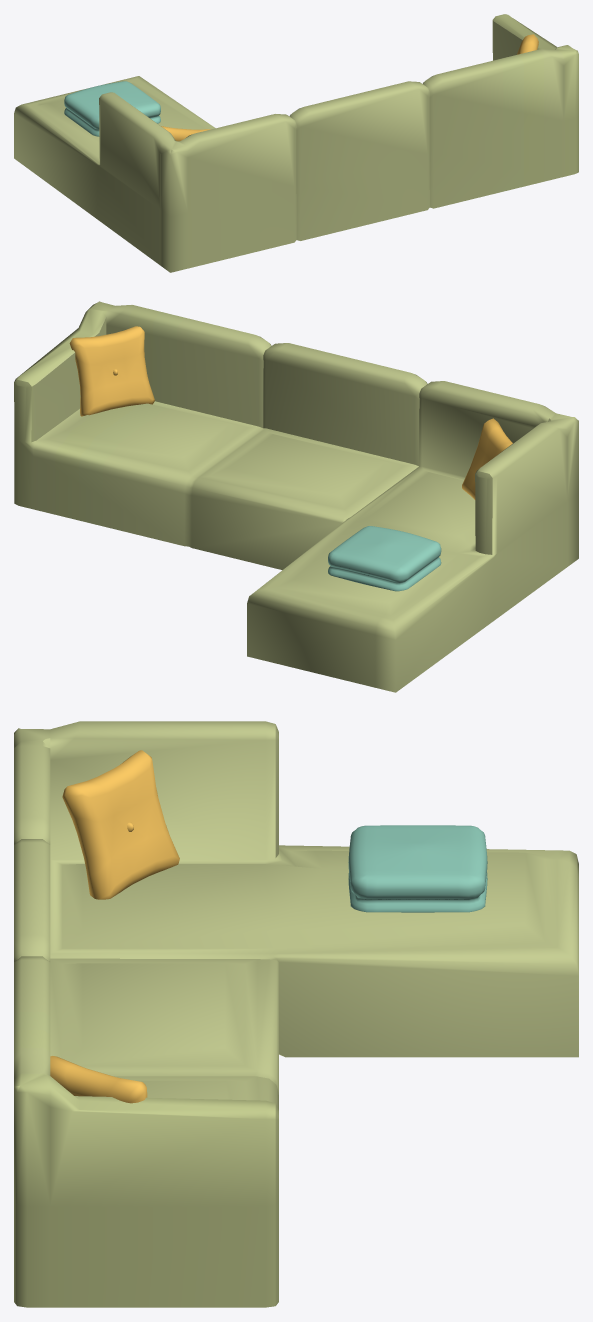
The model's file is obj_couch_3x2.FBX.
3 renders of one model, top to bottom at view 1: azimuth 30°, elevation 25°; view 2: azimuth 150°, elevation 25°; view 3: azimuth 270°, elevation 25°, orthographic. The views are drawn at different scales.
Visible parts, largest first — view 1: obj_couch_3x2; view 2: obj_couch_3x2; view 3: obj_couch_3x2.
Part boxes in pixels (bbox=[...]): obj_couch_3x2: bbox=[14, 14, 578, 272]; obj_couch_3x2: bbox=[14, 301, 578, 692]; obj_couch_3x2: bbox=[14, 721, 578, 1307].
Bounding box in the file's own units: 2.26 × 0.6602 × 1.49.
1 material, 1 textured.
